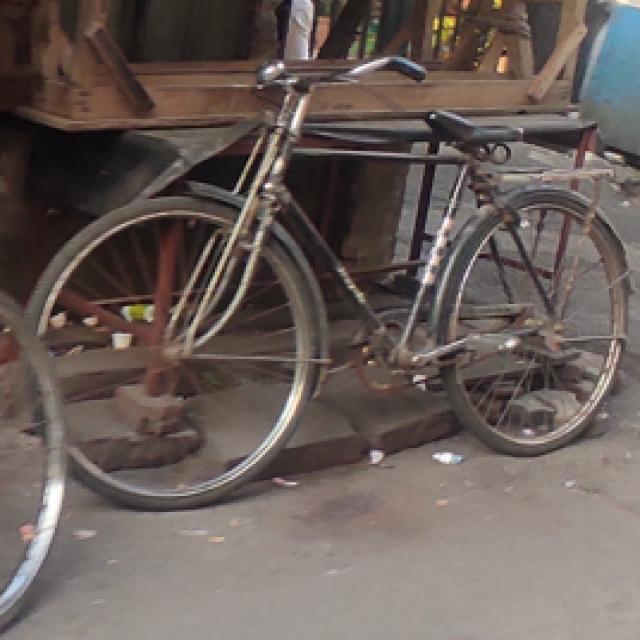bicycle: (42, 59, 624, 500)
